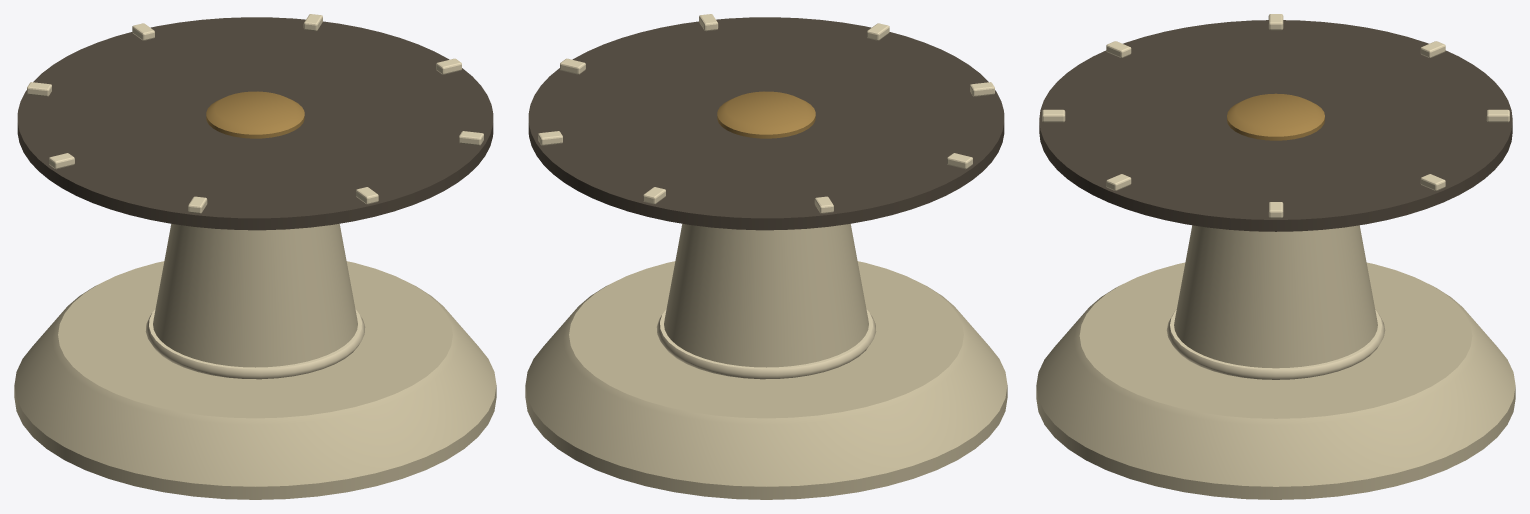
File: direction-wheel-base-v01.glb
3 views of the same model, side by side, from view 1: azimuth 30°, elevation 25°; view 2: azimuth 150°, elevation 25°; view 3: azimuth 270°, elevation 25° (orthographic).
Parts seen in each view (by area): view 1: Shadow sandstone 0, Shadow bronze dark 2, Shadow sandstone light 1, Shadow brass 3; view 2: Shadow sandstone 0, Shadow bronze dark 2, Shadow sandstone light 1, Shadow brass 3; view 3: Shadow sandstone 0, Shadow bronze dark 2, Shadow sandstone light 1, Shadow brass 3.
Boxes of the visible parts, x1=… form: Shadow sandstone 0: x1=14, y1=223, x2=496, y2=499; Shadow bronze dark 2: x1=17, y1=17, x2=493, y2=230; Shadow sandstone light 1: x1=27, y1=14, x2=483, y2=379; Shadow brass 3: x1=206, y1=91, x2=304, y2=138; Shadow sandstone 0: x1=525, y1=223, x2=1007, y2=499; Shadow bronze dark 2: x1=528, y1=17, x2=1004, y2=230; Shadow sandstone light 1: x1=538, y1=14, x2=994, y2=379; Shadow brass 3: x1=717, y1=91, x2=815, y2=138; Shadow sandstone 0: x1=1036, y1=225, x2=1515, y2=499; Shadow bronze dark 2: x1=1039, y1=20, x2=1512, y2=231; Shadow sandstone light 1: x1=1042, y1=14, x2=1509, y2=379; Shadow brass 3: x1=1227, y1=93, x2=1324, y2=140.
Bounding box in the file's own units: 1.66 × 1.1 × 1.66.
